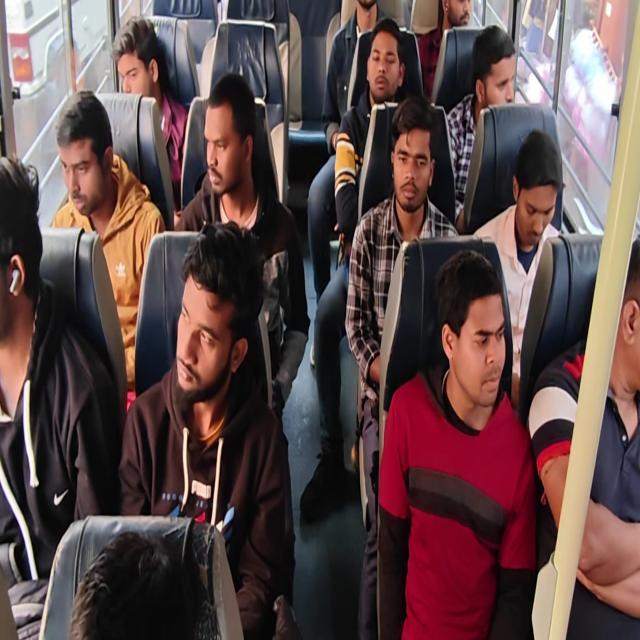person: (1, 1, 638, 638), (117, 220, 299, 638), (376, 248, 538, 638), (344, 94, 460, 637), (0, 154, 114, 638), (299, 17, 407, 520), (174, 72, 310, 419), (527, 235, 639, 634), (50, 90, 166, 410), (472, 128, 563, 410), (306, 1, 389, 304), (334, 17, 406, 246), (110, 15, 189, 210), (68, 529, 200, 639), (446, 24, 517, 228), (416, 0, 473, 101)
